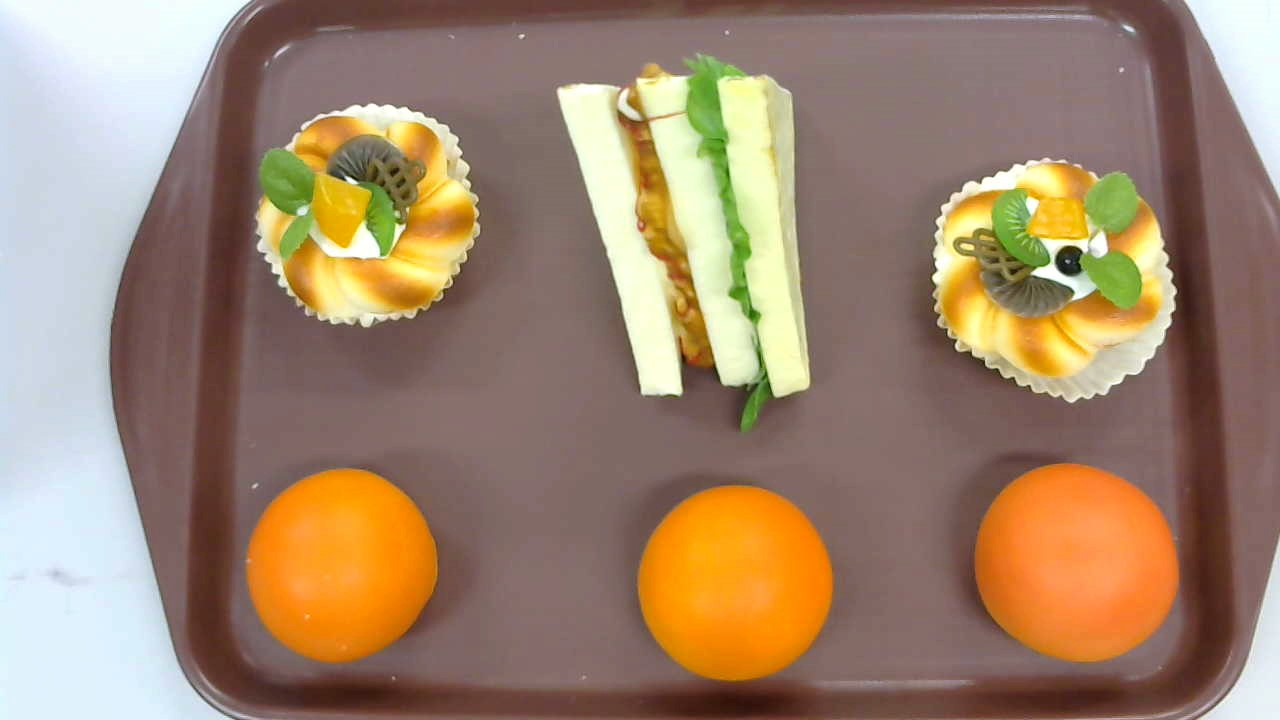bun: (972, 464, 1179, 662), (636, 484, 834, 683), (245, 468, 438, 664)
fruit tart: (928, 157, 1177, 404), (255, 103, 481, 331)
sandwich: (555, 48, 811, 436)
